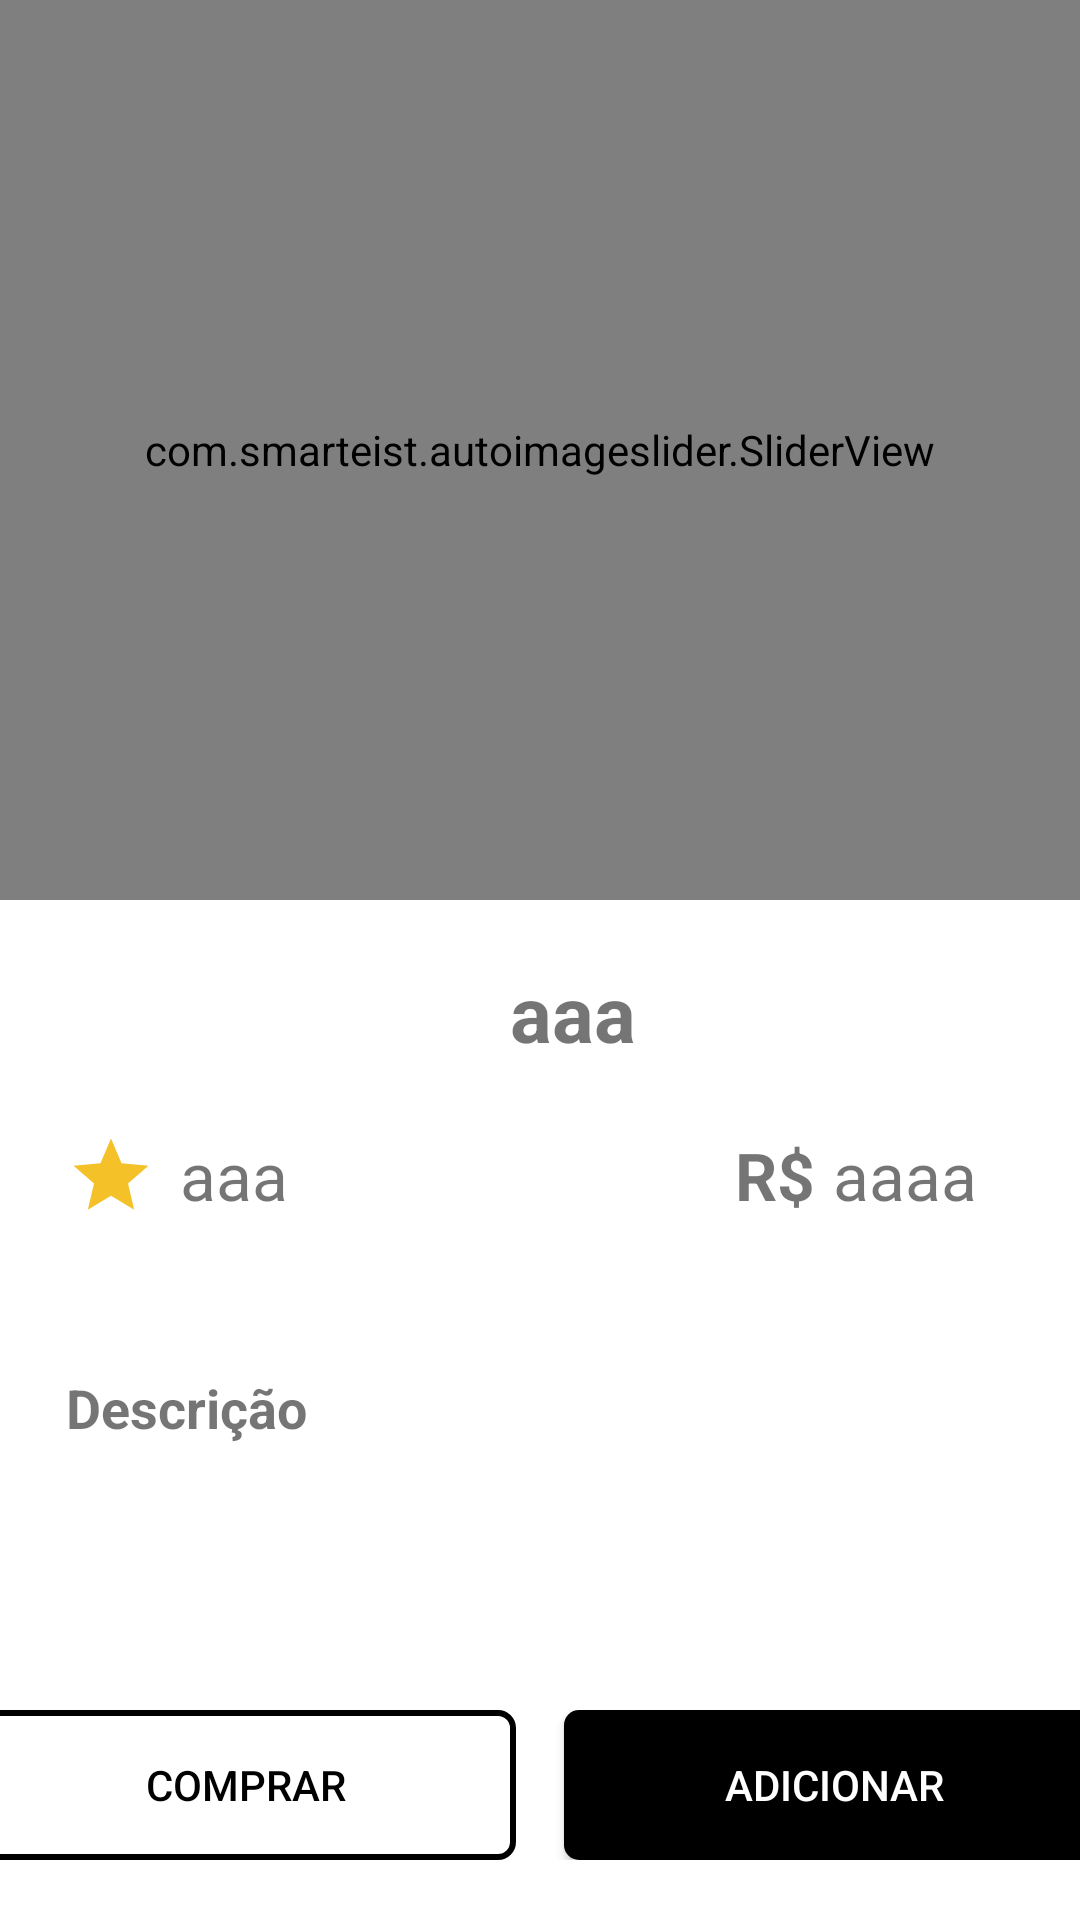

Icons on this 1080×1920 Android screen, each with the point to tap as (x=x, y=y):
star: (x=111, y=1174)
